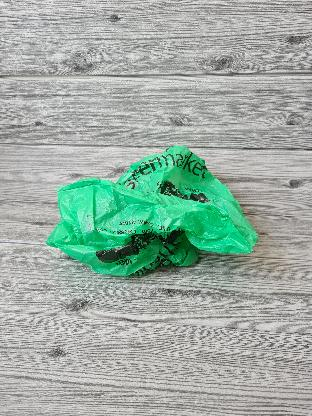Plastic Bag: (43, 135, 260, 285)
